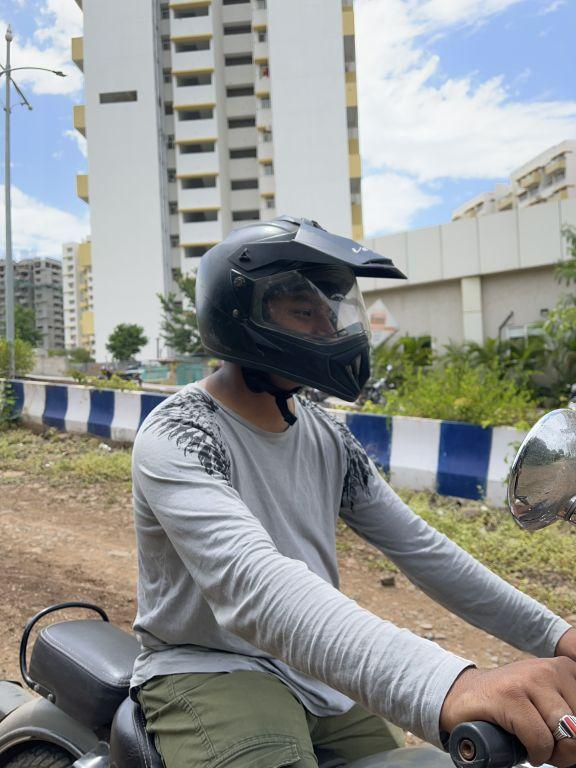helmet: (180, 207, 418, 426)
